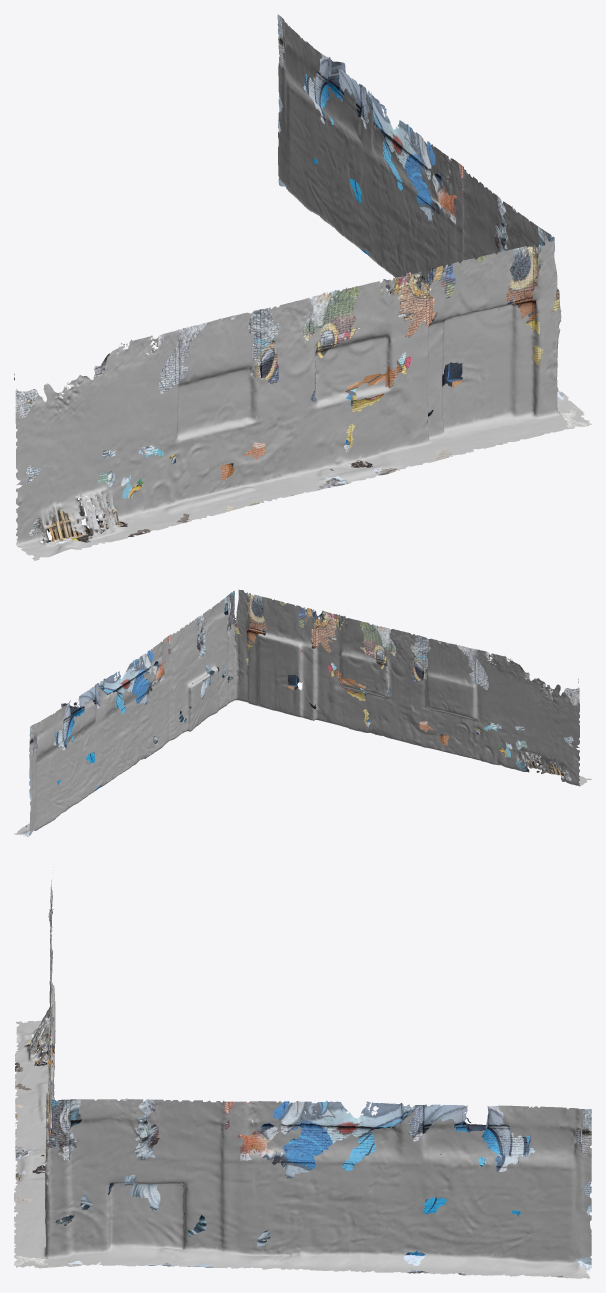
The picture shows the model from 3 angles, top to bottom: view 1: azimuth 30°, elevation 25°; view 2: azimuth 150°, elevation 25°; view 3: azimuth 270°, elevation 25°; orthographic projection. The views are drawn at different scales.
Visible parts, largest first — view 1: textured; view 2: textured; view 3: textured.
Boxes of the visible parts, bbox=[...] form: textured: bbox=[14, 14, 591, 560]; textured: bbox=[14, 589, 591, 836]; textured: bbox=[14, 880, 591, 1278].
Size of the model in its own units: 1952 by 571 by 1839.
